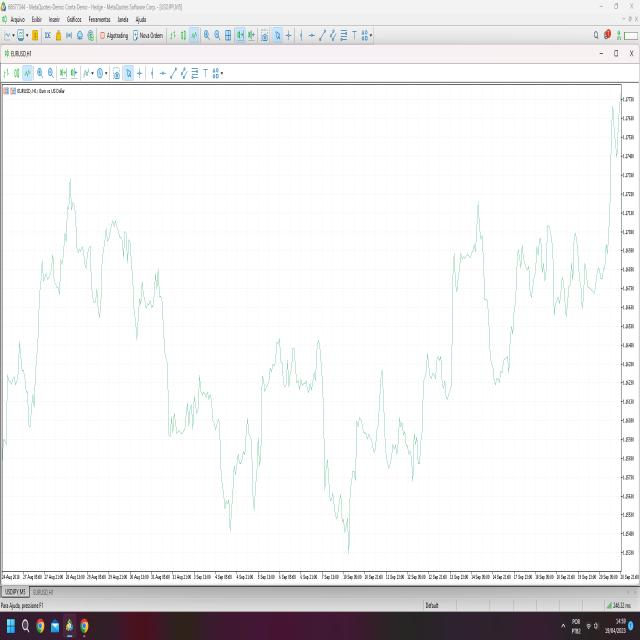bandeira_alta: (416, 341, 448, 474)
bandeira_baixa: (156, 286, 204, 451)
fundo_duplo: (207, 314, 273, 543), (549, 236, 576, 328)
